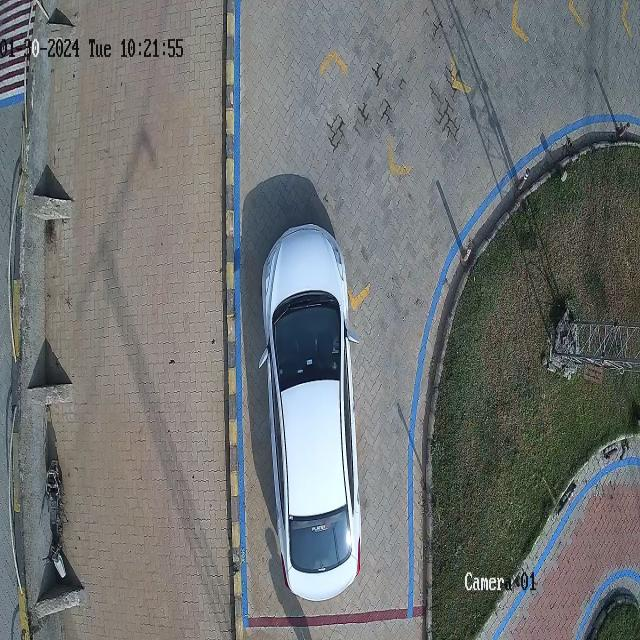car: (262, 227, 361, 600)
